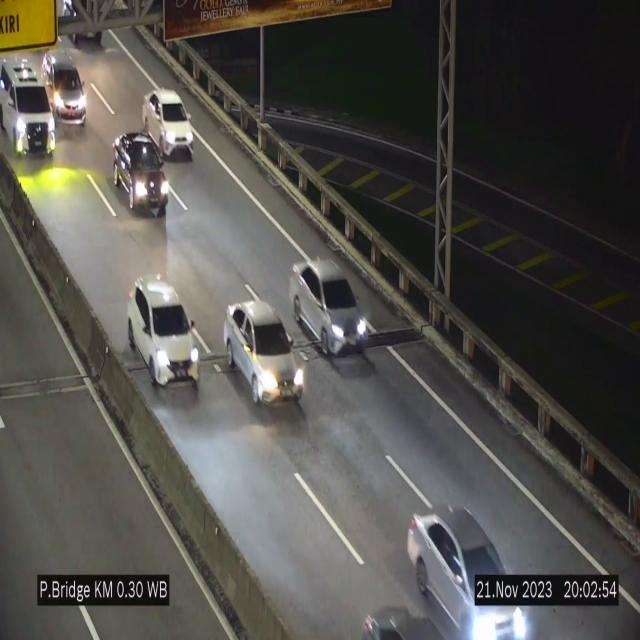Car: (408, 488, 526, 640), (224, 302, 306, 405), (127, 282, 201, 386), (290, 259, 370, 355), (0, 55, 58, 161), (110, 129, 174, 219), (40, 48, 90, 130), (142, 90, 194, 160)
